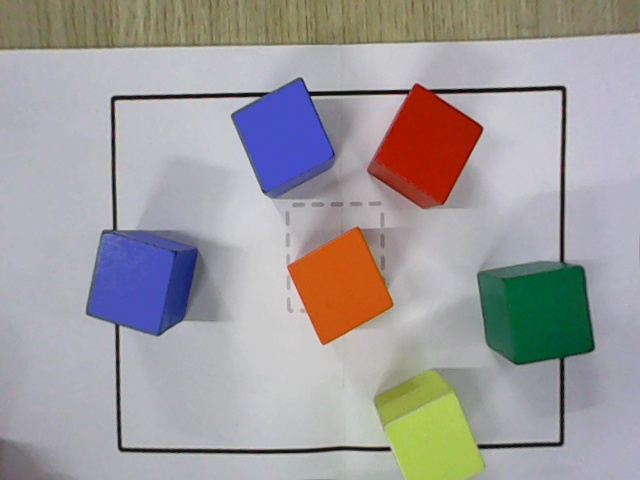upside of small cube: (373, 83, 485, 205), (286, 226, 395, 346), (230, 76, 335, 194), (84, 230, 177, 337), (505, 264, 598, 366), (381, 391, 487, 479)
